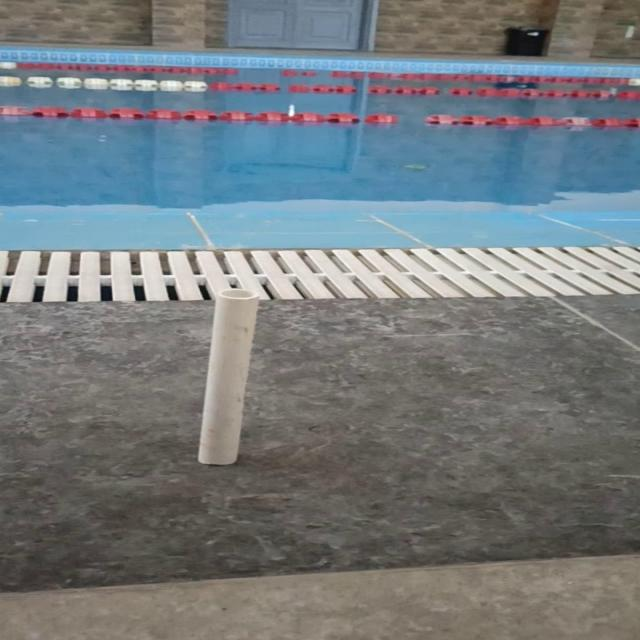Cube: (194, 287, 260, 465)
